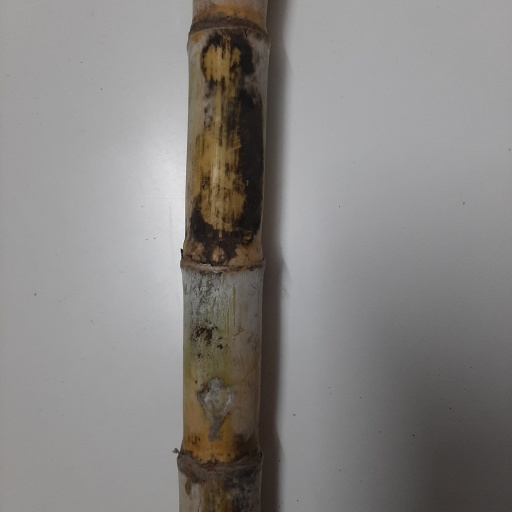Bud: (208, 245, 230, 268)
